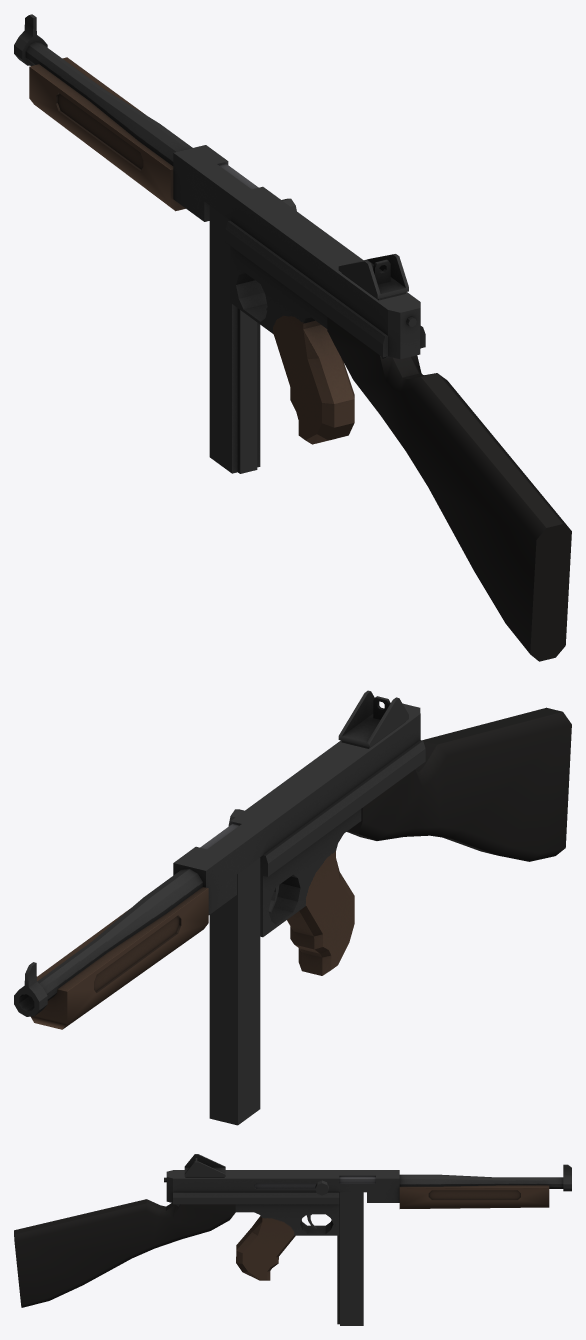
File: Heavy_SMG.fbx
The picture shows the model from 3 angles, top to bottom: view 1: azimuth 30°, elevation 25°; view 2: azimuth 150°, elevation 25°; view 3: azimuth 270°, elevation 25°; orthographic projection. The views are drawn at different scales.
Parts seen in each view (by area): view 1: Body, Stock_Polymer, Magazine_Stick, Ironsights; view 2: Body, Stock_Polymer, Magazine_Stick, Ironsights; view 3: Body, Stock_Polymer, Magazine_Stick, Ironsights.
Part boxes in pixels (x1,y1,x2,y2): Body: [14, 14, 425, 444]; Stock_Polymer: [327, 317, 571, 661]; Magazine_Stick: [209, 206, 260, 473]; Ironsights: [338, 254, 408, 300]; Body: [14, 703, 425, 1029]; Stock_Polymer: [347, 707, 571, 861]; Magazine_Stick: [209, 857, 260, 1125]; Ironsights: [338, 690, 408, 748]; Body: [164, 1164, 571, 1280]; Stock_Polymer: [14, 1199, 235, 1307]; Magazine_Stick: [337, 1192, 363, 1325]; Ironsights: [184, 1154, 225, 1177].
Size of the model in its own units: 4.06 by 24.36 by 75.07.
